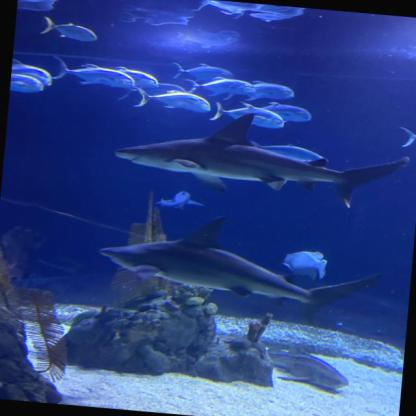fish: (261, 342, 352, 392), (50, 55, 135, 89), (208, 99, 285, 130), (130, 86, 212, 114), (183, 74, 254, 102), (280, 248, 328, 282), (169, 61, 235, 85), (262, 141, 329, 163), (244, 79, 294, 105), (112, 65, 160, 92), (40, 20, 98, 42), (10, 59, 54, 87), (259, 101, 311, 124), (10, 73, 44, 94), (398, 124, 415, 150)
shark: (94, 204, 386, 332), (110, 100, 411, 215), (155, 183, 206, 213)
